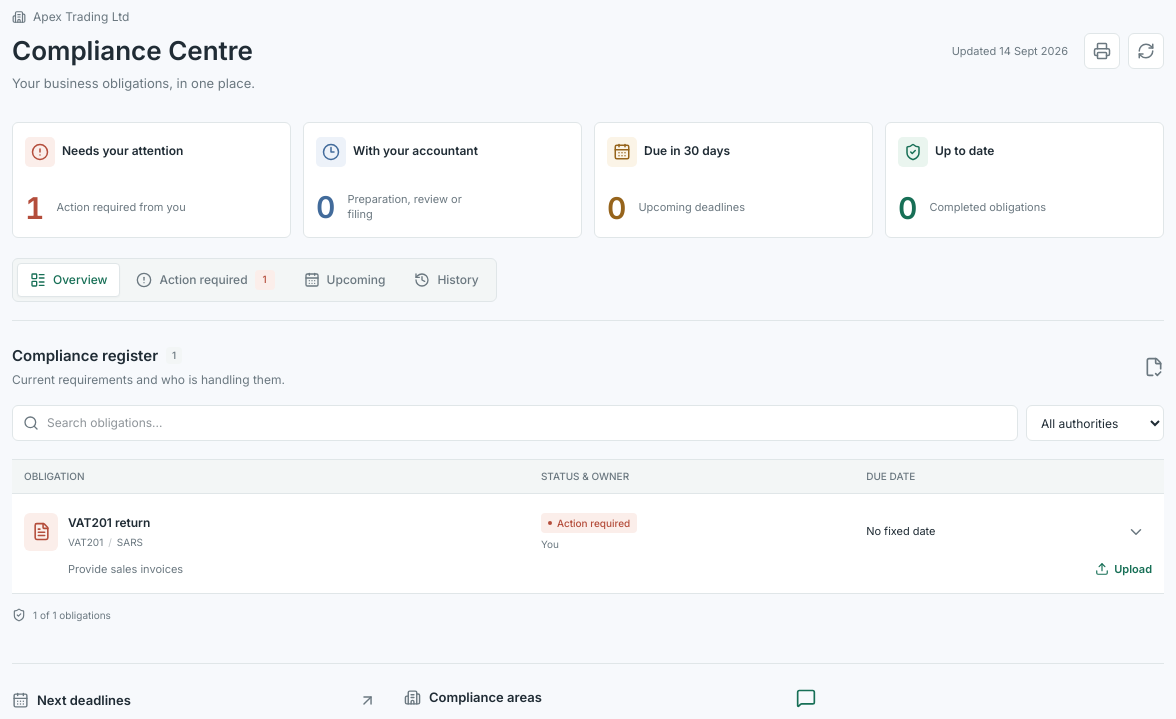
ClientComplianceCentrePage › renders the client compliance overview and required actions
Expected: the heading "Compliance Centre" is shown, [12,33,255,68]
Expected: the text "VAT201" is shown, [68,535,103,550]
What coordinates should you click on to do the following:
click the button "Action required 1"
I would click on:
 (206, 280)
Its box is [124,263,288,297].
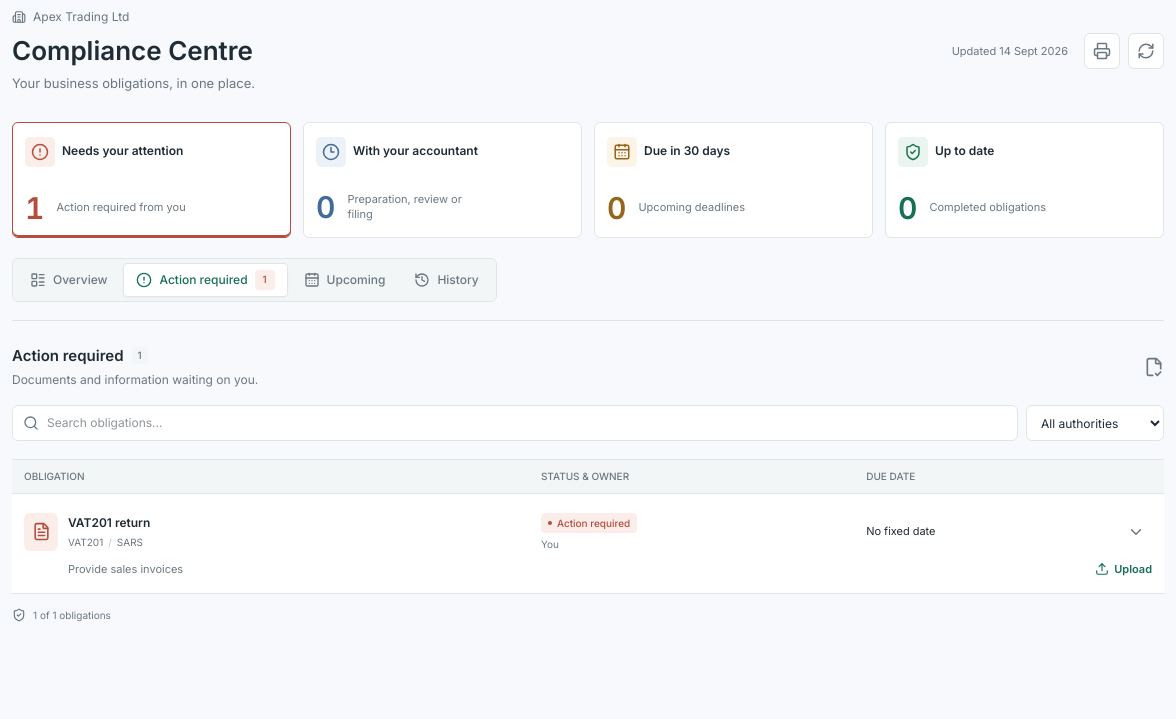
Expected: the heading "VAT201 return" is shown, [68,514,150,532]
Result: the heading "Action required 1" is shown at [12,346,148,365]
